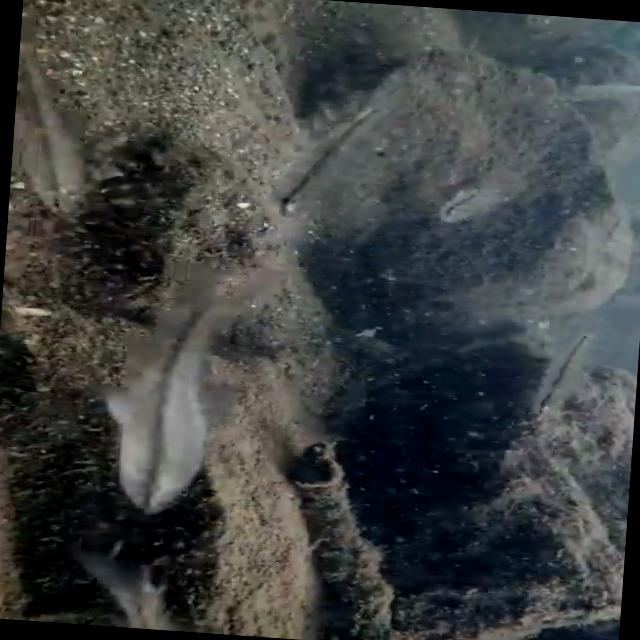Cakil Baligi: (90, 264, 281, 526), (256, 65, 414, 232), (519, 324, 608, 424)
